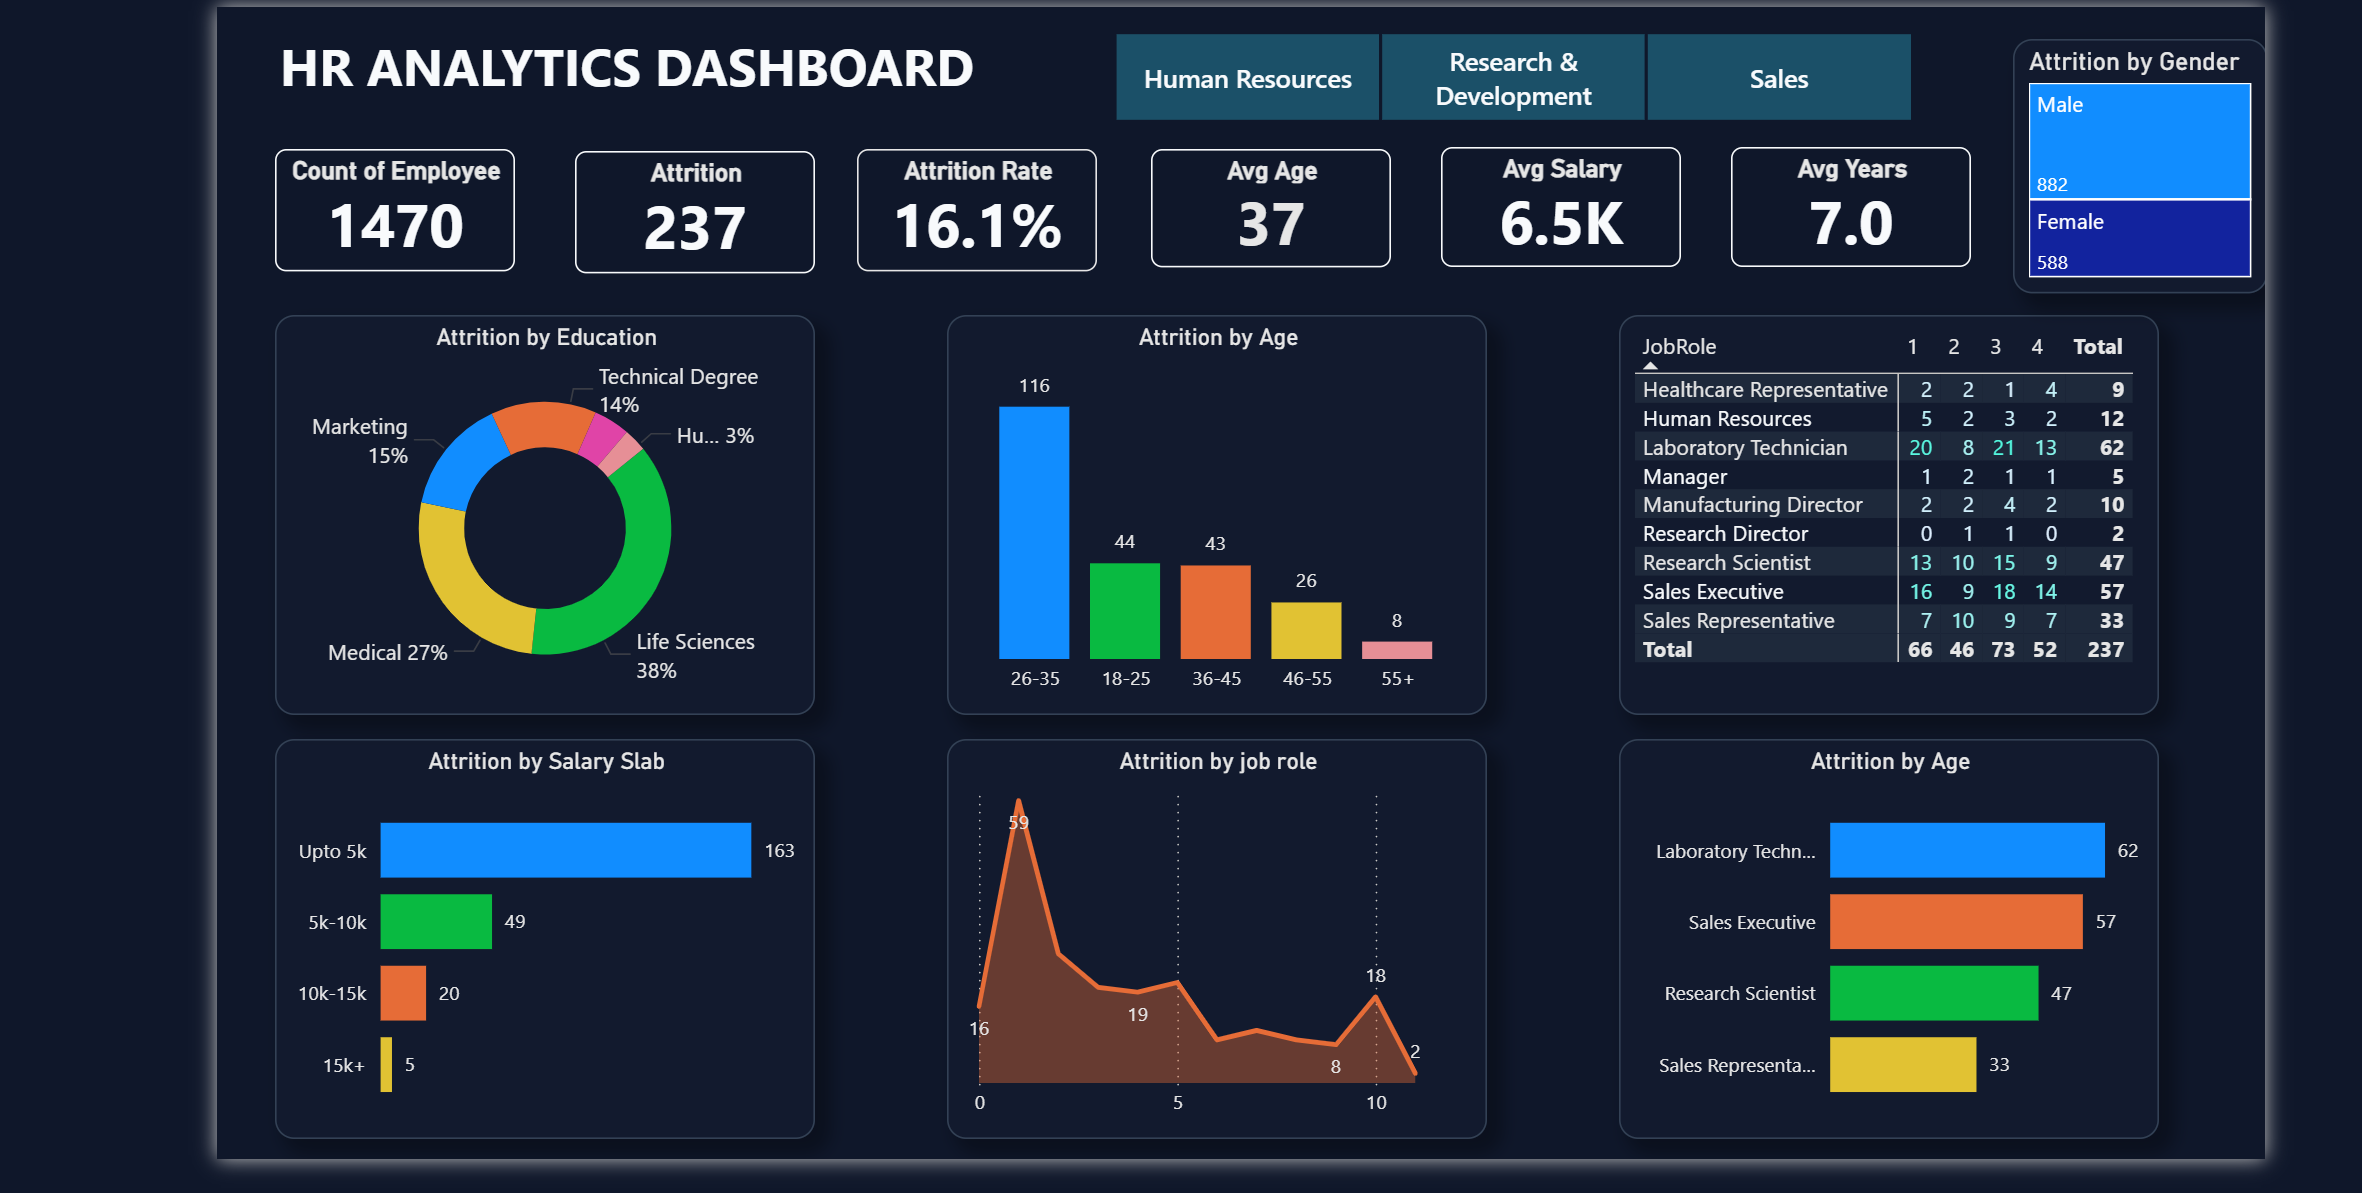

What the dashboard file says about the page in this screenshot:
{"tool":"powerbi","page":{"name":"Page 1","canvas":[1280,720],"ordinal":0},"visuals":[{"type":"card","title":"Count of Employee","fields":{"Values":["CountNonNull(HR_Analytics new.EmpID)"]},"box":[36.2,88.8,150,76.2],"z":0},{"type":"card","title":"Attrition","fields":{"Values":["Sum(HR_Analytics new.AttritionCount)"]},"box":[223.8,90,150,76.2],"z":1000},{"type":"card","title":"Attrition Rate","fields":{"Values":["HR_Analytics new.AttritionRate"]},"box":[400,88.8,150,76.2],"z":2000},{"type":"card","title":"Avg Age","fields":{"Values":["Avg(HR_Analytics new.Age)"]},"box":[583.8,88.8,150,73.8],"z":3000},{"type":"card","title":"Avg Years","fields":{"Values":["Avg(HR_Analytics new.YearsAtCompany)"]},"box":[946.2,87.5,150,75],"z":4000},{"type":"card","title":"Avg Salary","fields":{"Values":["Avg(HR_Analytics new.MonthlyIncome)"]},"box":[765,87.5,150,75],"z":5000},{"type":"donutChart","title":"Attrition by Education","fields":{"Category":["HR_Analytics new.EducationField"],"Y":["Sum(HR_Analytics new.AttritionCount)"]},"box":[36.2,192.5,337.5,250],"z":6000},{"type":"columnChart","title":"Attrition by Age","fields":{"Y":["Sum(HR_Analytics new.AttritionCount)"],"Category":["HR_Analytics new.AgeGroup"]},"box":[456.2,192.5,337.5,250],"z":7000},{"type":"pivotTable","fields":{"Rows":["HR_Analytics new.JobRole"],"Columns":["HR_Analytics new.JobSatisfaction"],"Values":["Sum(HR_Analytics new.AttritionCount)"]},"box":[876.2,192.5,337.5,250],"z":8000},{"type":"barChart","title":"Attrition by Salary Slab","fields":{"Category":["HR_Analytics new.SalarySlab"],"Y":["Sum(HR_Analytics new.AttritionCount)"]},"box":[36.2,457.5,337.5,250],"z":9000},{"type":"barChart","title":"Attrition by Age","fields":{"Category":["HR_Analytics new.JobRole"],"Y":["Sum(HR_Analytics new.AttritionCount)"]},"box":[876.2,457.5,337.5,250],"z":10000},{"type":"areaChart","title":"Attrition by job role","fields":{"Category":["HR_Analytics new.YearsAtCompany"],"Y":["Sum(HR_Analytics new.AttritionCount)"]},"box":[456.2,457.5,337.5,250],"z":11000},{"type":"slicer","fields":{"Values":["HR_Analytics new.Department"]},"box":[536.2,10,546.2,67.5],"z":12000},{"type":"textbox","box":[13.8,10,485,67.5],"z":13000},{"type":"treemap","title":" Attrition by Gender","fields":{"Group":["HR_Analytics new.Gender"],"Values":["CountNonNull(HR_Analytics new.Attrition)"]},"box":[1122.5,20,158.8,158.8],"z":14000}]}

Visuals, with their boxes on the page's 1280x720 design canvas (x1, y1, x2, y2). These are canvas units, not pixel positions in the 2362x1193 screenshot, which may show the page scaled, cropped or inside an application window:
"Count of Employee" card: region(36, 89, 186, 165)
"Attrition" card: region(224, 90, 374, 166)
"Attrition Rate" card: region(400, 89, 550, 165)
"Avg Age" card: region(584, 89, 734, 163)
"Avg Years" card: region(946, 88, 1096, 162)
"Avg Salary" card: region(765, 88, 915, 162)
"Attrition by Education" donutChart: region(36, 192, 374, 442)
"Attrition by Age" columnChart: region(456, 192, 794, 442)
pivotTable - HR_Analytics new.JobRole x HR_Analytics new.JobSatisfaction: region(876, 192, 1214, 442)
"Attrition by Salary Slab" barChart: region(36, 458, 374, 708)
"Attrition by Age" barChart: region(876, 458, 1214, 708)
"Attrition by job role" areaChart: region(456, 458, 794, 708)
slicer - HR_Analytics new.Department: region(536, 10, 1082, 78)
textbox: region(14, 10, 499, 78)
" Attrition by Gender" treemap: region(1122, 20, 1281, 179)
